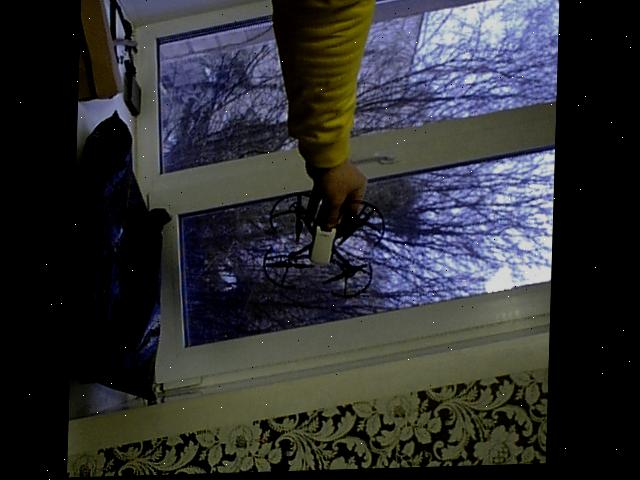drone: (254, 190, 398, 302)
